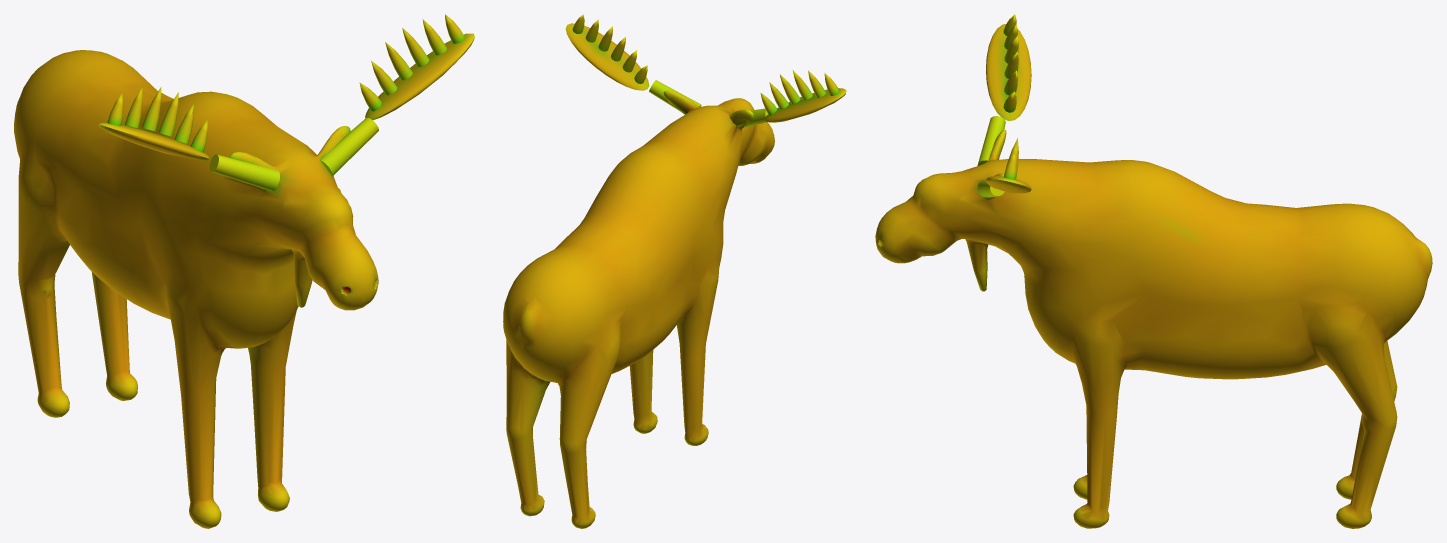
File: elk_lo.glb
3 views of the same model, side by side, from view 1: azimuth 30°, elevation 25°; view 2: azimuth 150°, elevation 25°; view 3: azimuth 270°, elevation 25° (orthographic). The views are drawn at different scales.
Visible parts, largest first — view 1: elk; view 2: elk; view 3: elk.
Part boxes in pixels (left/top/right/bottom): elk: left=14, top=14, right=474, bottom=528; elk: left=503, top=14, right=846, bottom=528; elk: left=875, top=14, right=1432, bottom=528.
Size of the model in its own units: 2.08 by 2.64 by 3.1.
